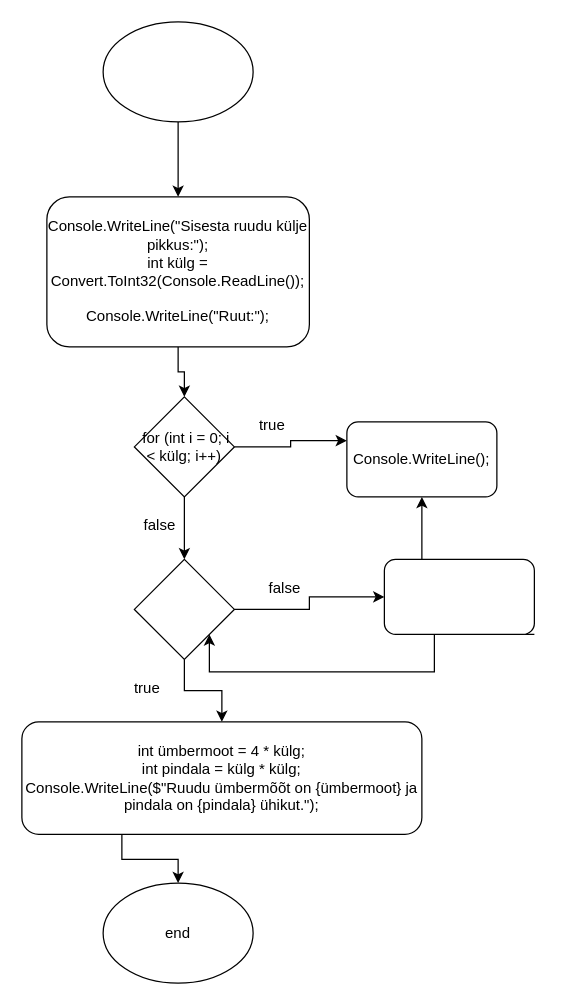
The diagram is 566 pixels wide and 1005 high, and some of its shapes have lost their labels. The centre of each missing label's shape, as x and y in pixels:
Console.Write("*");: (458,596)
for (int j = 0; j < külg; j++): (183,608)
start: (177,71)
